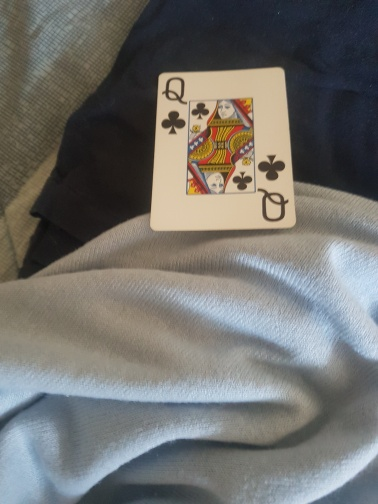queen: (149, 67, 298, 236)
